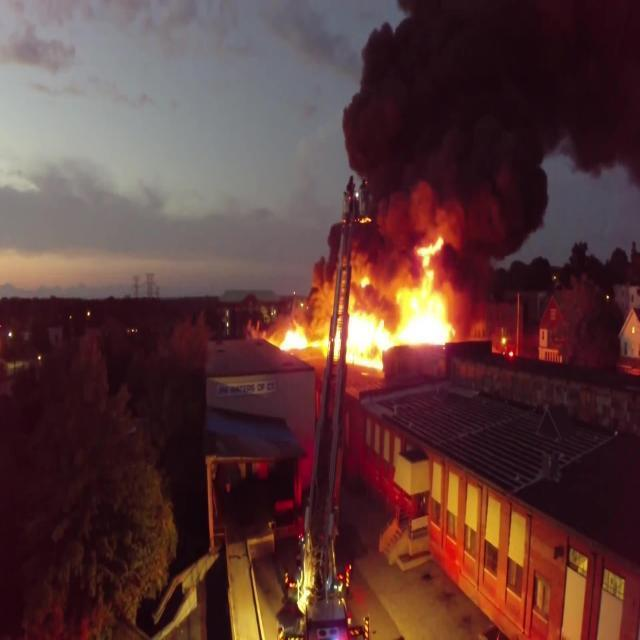Fire: (242, 215, 471, 388), (371, 433, 551, 606)
Smoke: (0, 0, 339, 277)
